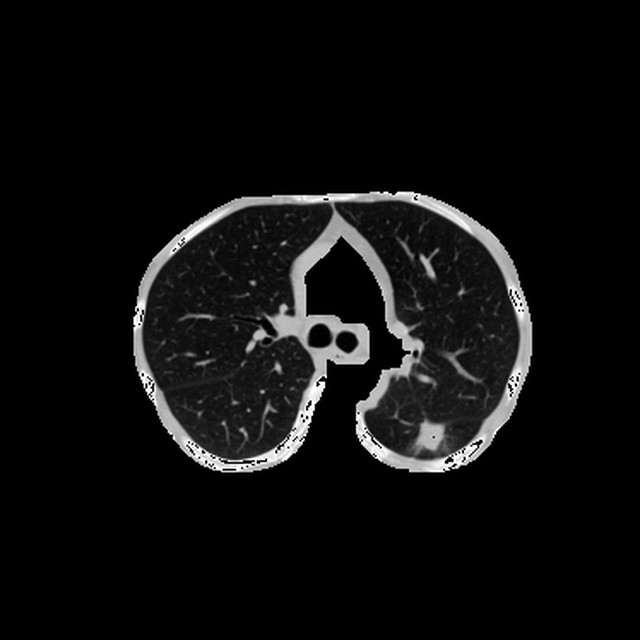PN: (412, 418, 447, 452)
